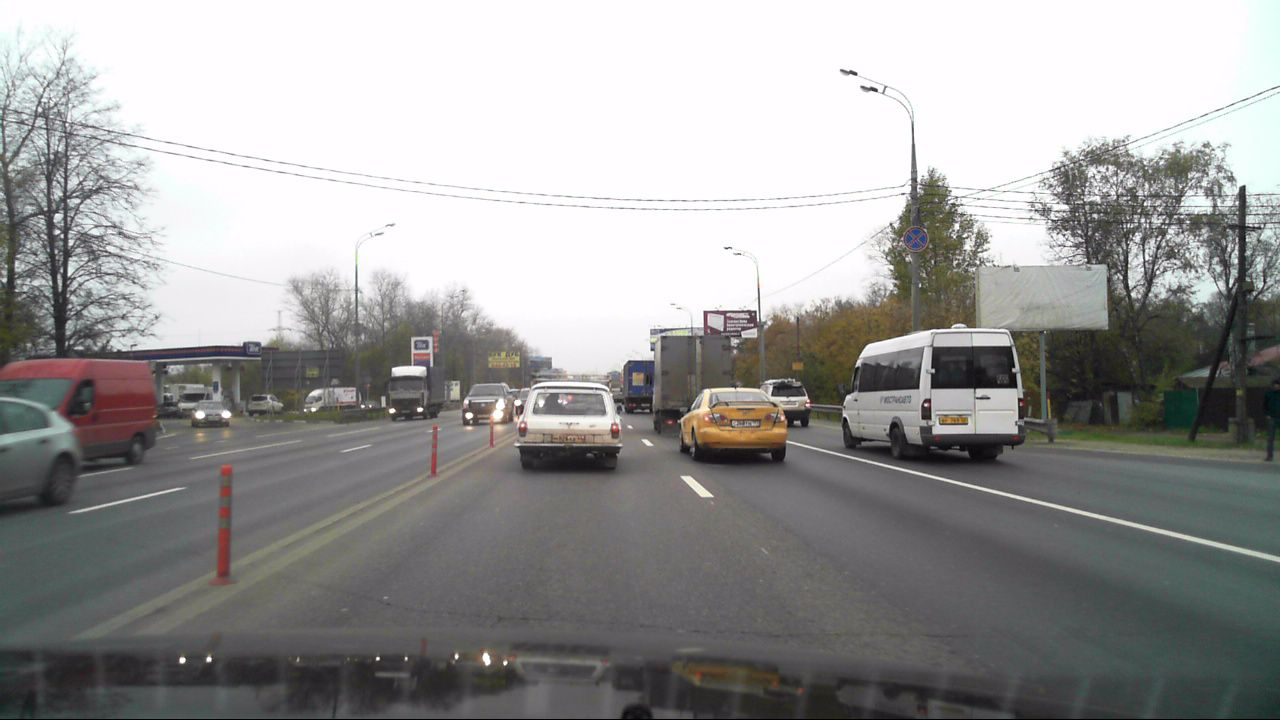No Parking: (903, 227, 929, 251)
